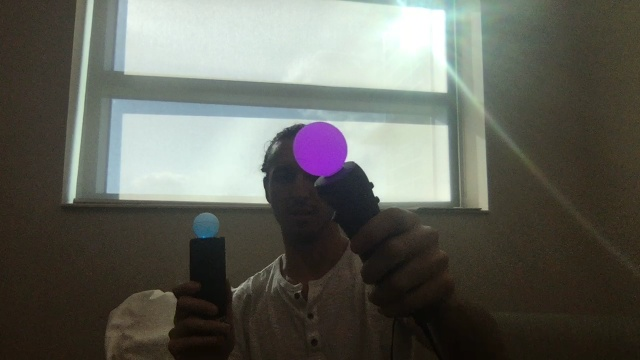wand: (293, 121, 348, 177), (193, 212, 220, 239)
